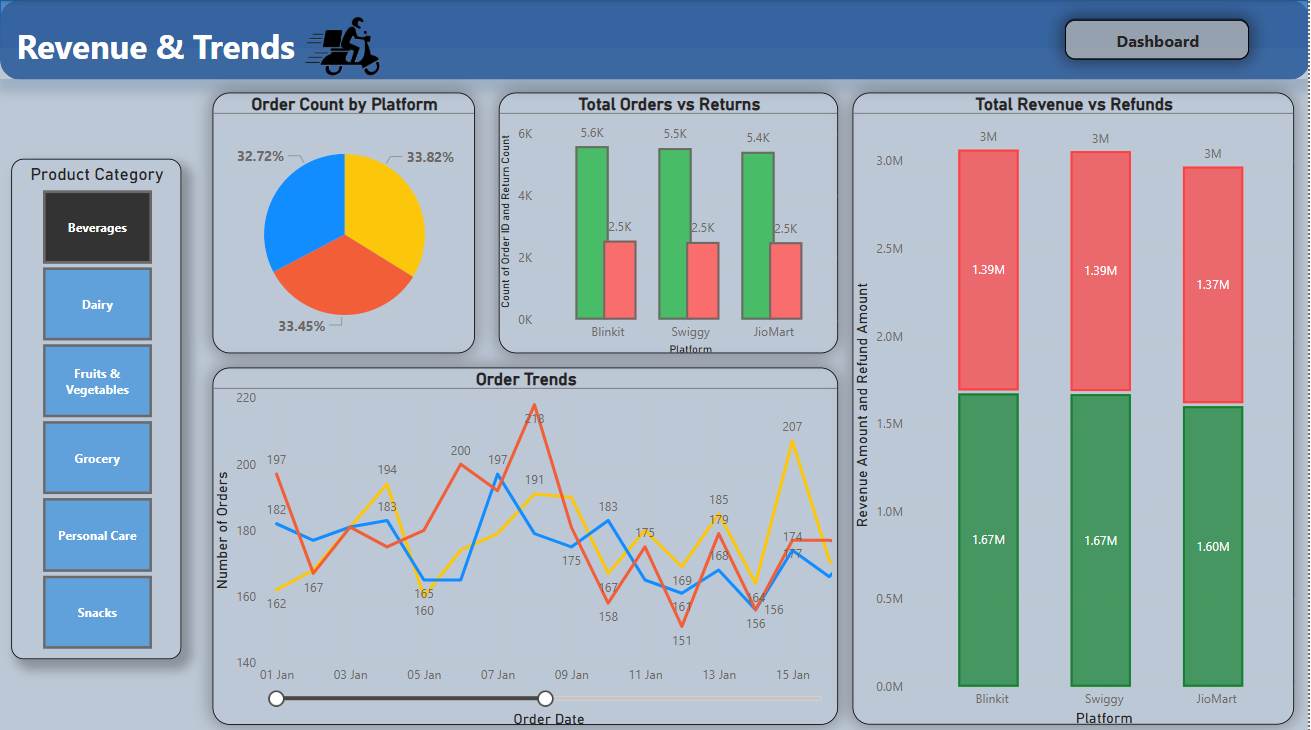

What the dashboard file says about the page in this screenshot:
{"tool":"powerbi","page":{"name":"Revenue & Trends","canvas":[1280,720],"ordinal":1},"visuals":[{"type":"shape","box":[0,0,1280,47.3],"z":0},{"type":"shape","box":[0,0,1281.4,78],"z":1000},{"type":"textbox","box":[10.8,18.5,358.5,60],"z":2000},{"type":"image","box":[287.5,0,95.8,90.3],"z":3000},{"type":"pieChart","title":"Order Count by Platform","fields":{"Category":["Worksheet.Platform"],"Y":["CountNonNull(Worksheet.Order ID)"]},"box":[207.7,90.8,256.9,255.4],"z":4000},{"type":"slicer","title":"Product Category","fields":{"Values":["Worksheet.Product Category"]},"box":[10.8,155.4,166.2,489.2],"z":5000},{"type":"clusteredColumnChart","title":"Total Orders vs Returns","fields":{"Category":["Worksheet.Platform"],"Y":["CountNonNull(Worksheet.Order ID)","Worksheet.Return Count"]},"box":[487.7,90.8,332.3,255.4],"z":6000},{"type":"columnChart","title":"Total Revenue vs Refunds","fields":{"Category":["Worksheet.Platform"],"Y":["Worksheet.Revenue Amount","Worksheet.Return Amount"]},"box":[833.8,90.8,432.3,618.5],"z":7000},{"type":"lineChart","title":"Order Trends","fields":{"Y":["CountNonNull(Worksheet.Order ID)"],"Category":["Worksheet.Order Date & Time"],"Series":["Worksheet.Platform"]},"box":[207.7,360,612.3,349.2],"z":8000},{"type":"group","id":"g1","title":"Group 4","box":[1041.5,18.5,180,40],"z":8001},{"type":"textbox","box":[1041.5,20,180,38.5],"z":18500,"group":"g1"},{"type":"actionButton","title":"Revenue & Trends","box":[1041.5,18.5,180,40],"z":19000,"group":"g1"}]}

Visuals, with their boxes in screenshot pixels (x1, y1, x2, y2), scaled from the page's 1280x720 canvas onto the 1311x730 screenshot:
shape: detection(0, 0, 1310, 48)
shape: detection(0, 0, 1310, 79)
textbox: detection(11, 19, 378, 80)
image: detection(294, 0, 393, 92)
"Order Count by Platform" pieChart: detection(213, 92, 476, 351)
"Product Category" slicer: detection(11, 158, 181, 654)
"Total Orders vs Returns" clusteredColumnChart: detection(500, 92, 840, 351)
"Total Revenue vs Refunds" columnChart: detection(854, 92, 1297, 719)
"Order Trends" lineChart: detection(213, 365, 840, 719)
"Group 4" group: detection(1067, 19, 1251, 59)
textbox: detection(1067, 20, 1251, 59)
"Revenue & Trends" actionButton: detection(1067, 19, 1251, 59)
